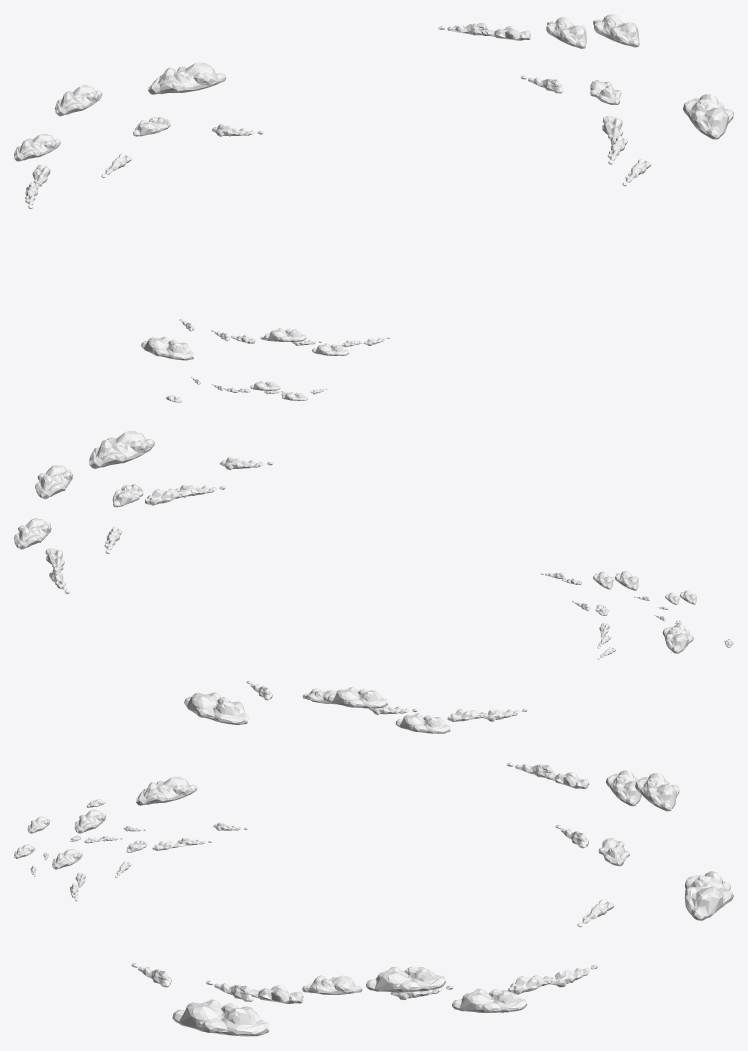
The model's file is clouds.glb.
The picture shows the model from 3 angles, top to bottom: view 1: azimuth 30°, elevation 25°; view 2: azimuth 150°, elevation 25°; view 3: azimuth 270°, elevation 25°; orthographic projection. The views are drawn at different scales.
Parts seen in each view (by area): view 1: SM_Env_Cloud_16, SM_Env_Cloud_6, SM_Env_Cloud_03_791, SM_Env_Cloud_9, SM_Env_Cloud_26, SM_Env_Cloud_5, SM_Env_Cloud_13; view 2: SM_Env_Cloud_6, SM_Env_Cloud_16, SM_Env_Cloud_9, SM_Env_Cloud_03_791, SM_Env_Cloud_13, SM_Env_Cloud_5, SM_Env_Cloud_26, SM_Env_Cloud_4; view 3: SM_Env_Cloud_6, SM_Env_Cloud_16, SM_Env_Cloud_03_791, SM_Env_Cloud_5, SM_Env_Cloud_26, SM_Env_Cloud_9, SM_Env_Cloud_4, SM_Env_Cloud_13, SM_Env_Cloud_3, SM_Env_Cloud_12, SM_Env_Cloud_02_794, SM_Env_Cloud_19 (+2 smaller).
Part boxes in pixels (x1=…): SM_Env_Cloud_16: x1=148, y1=62, x2=226, y2=94; SM_Env_Cloud_6: x1=683, y1=94, x2=733, y2=139; SM_Env_Cloud_03_791: x1=593, y1=14, x2=639, y2=47; SM_Env_Cloud_9: x1=55, y1=85, x2=102, y2=116; SM_Env_Cloud_26: x1=141, y1=336, x2=194, y2=360; SM_Env_Cloud_5: x1=546, y1=17, x2=586, y2=48; SM_Env_Cloud_13: x1=14, y1=133, x2=60, y2=161; SM_Env_Cloud_6: x1=89, y1=431, x2=154, y2=468; SM_Env_Cloud_16: x1=184, y1=692, x2=248, y2=724; SM_Env_Cloud_9: x1=327, y1=687, x2=387, y2=708; SM_Env_Cloud_03_791: x1=35, y1=465, x2=73, y2=499; SM_Env_Cloud_13: x1=395, y1=713, x2=450, y2=733; SM_Env_Cloud_5: x1=14, y1=518, x2=51, y2=549; SM_Env_Cloud_26: x1=662, y1=624, x2=693, y2=653; SM_Env_Cloud_4: x1=112, y1=484, x2=143, y2=507; SM_Env_Cloud_6: x1=172, y1=999, x2=269, y2=1036; SM_Env_Cloud_16: x1=684, y1=871, x2=733, y2=920; SM_Env_Cloud_03_791: x1=366, y1=966, x2=446, y2=992; SM_Env_Cloud_5: x1=452, y1=988, x2=527, y2=1012; SM_Env_Cloud_26: x1=136, y1=776, x2=197, y2=805; SM_Env_Cloud_9: x1=635, y1=773, x2=679, y2=811; SM_Env_Cloud_4: x1=302, y1=975, x2=362, y2=994; SM_Env_Cloud_13: x1=606, y1=770, x2=641, y2=806; SM_Env_Cloud_3: x1=249, y1=985, x2=303, y2=1003; SM_Env_Cloud_12: x1=598, y1=838, x2=629, y2=866; SM_Env_Cloud_02_794: x1=508, y1=975, x2=552, y2=994; SM_Env_Cloud_19: x1=74, y1=809, x2=105, y2=833.
Bounding box in the file's own units: 535 × 122 × 471.
Materials: 1 (1 with a texture image).
